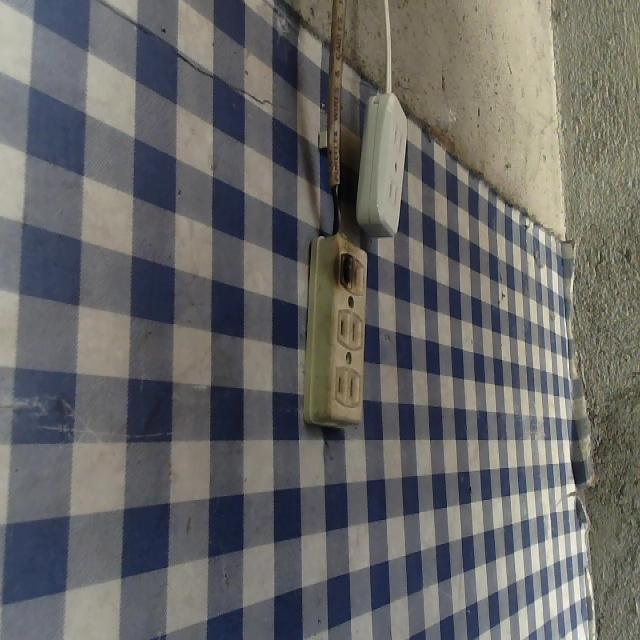-: (328, 243, 357, 297)
